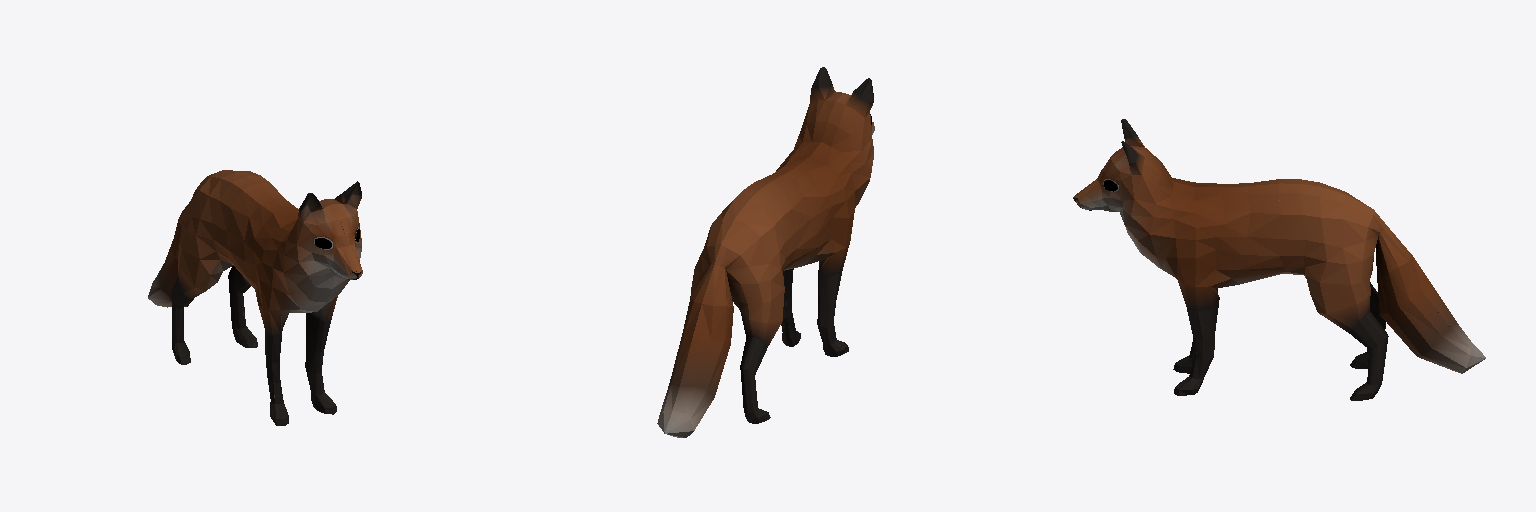
3 views of the same model, side by side, from view 1: azimuth 30°, elevation 25°; view 2: azimuth 150°, elevation 25°; view 3: azimuth 270°, elevation 25° (orthographic).
Visible parts, largest first — view 1: base.144_Mesh.007; view 2: base.144_Mesh.007; view 3: base.144_Mesh.007.
Part boxes in pixels (x1,y1,x2,y2): base.144_Mesh.007: (148, 170, 362, 425); base.144_Mesh.007: (657, 67, 874, 437); base.144_Mesh.007: (1073, 119, 1485, 400).
Size of the model in its own units: 0.3016 by 0.9269 by 1.38.
Materials: 1 (1 with a texture image).